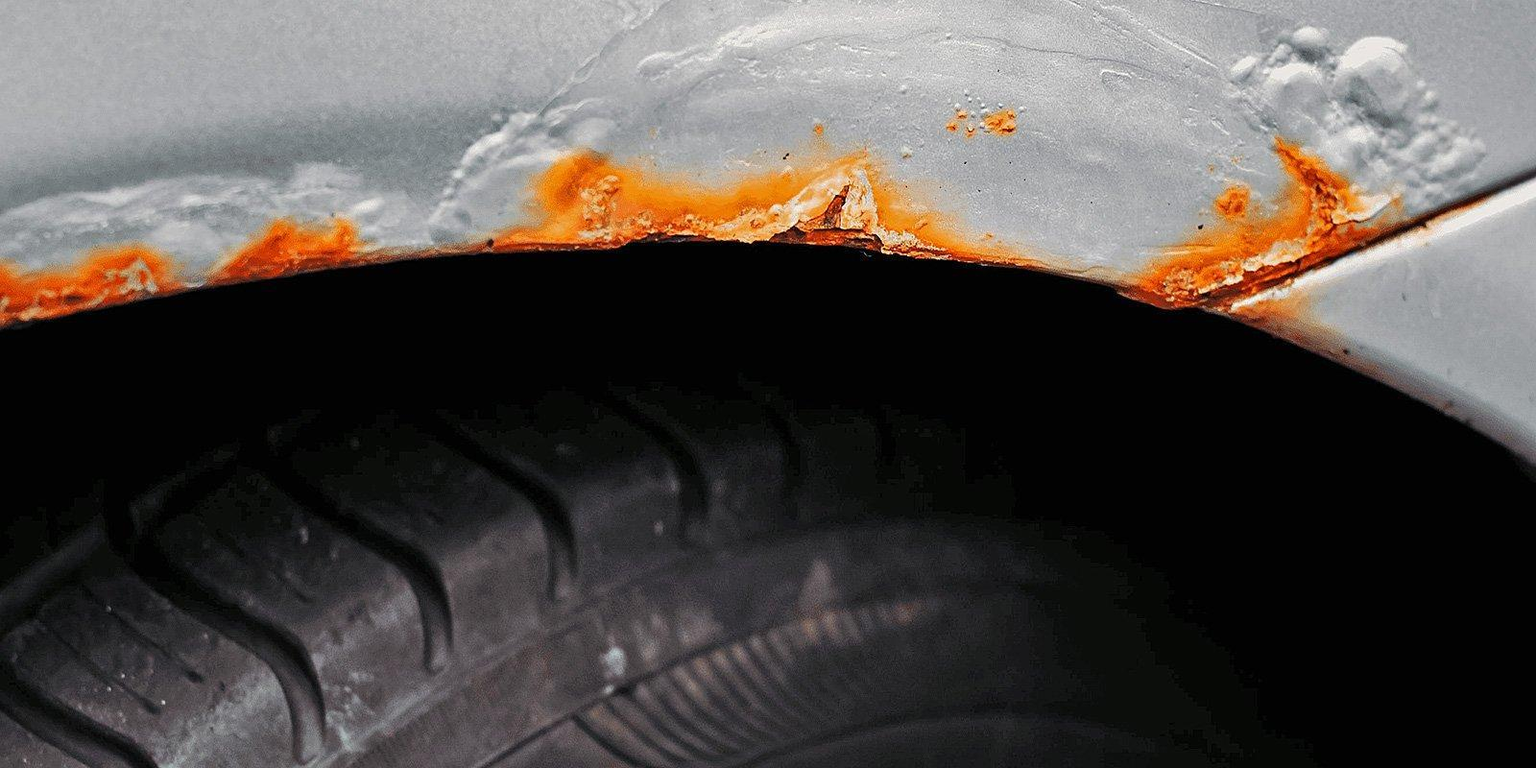corrosion: (493, 151, 997, 260), (1123, 139, 1402, 310), (1, 247, 184, 326), (1231, 274, 1366, 369), (208, 220, 367, 286), (976, 224, 1076, 270), (1402, 196, 1489, 243), (365, 235, 489, 259), (946, 106, 1018, 137)
